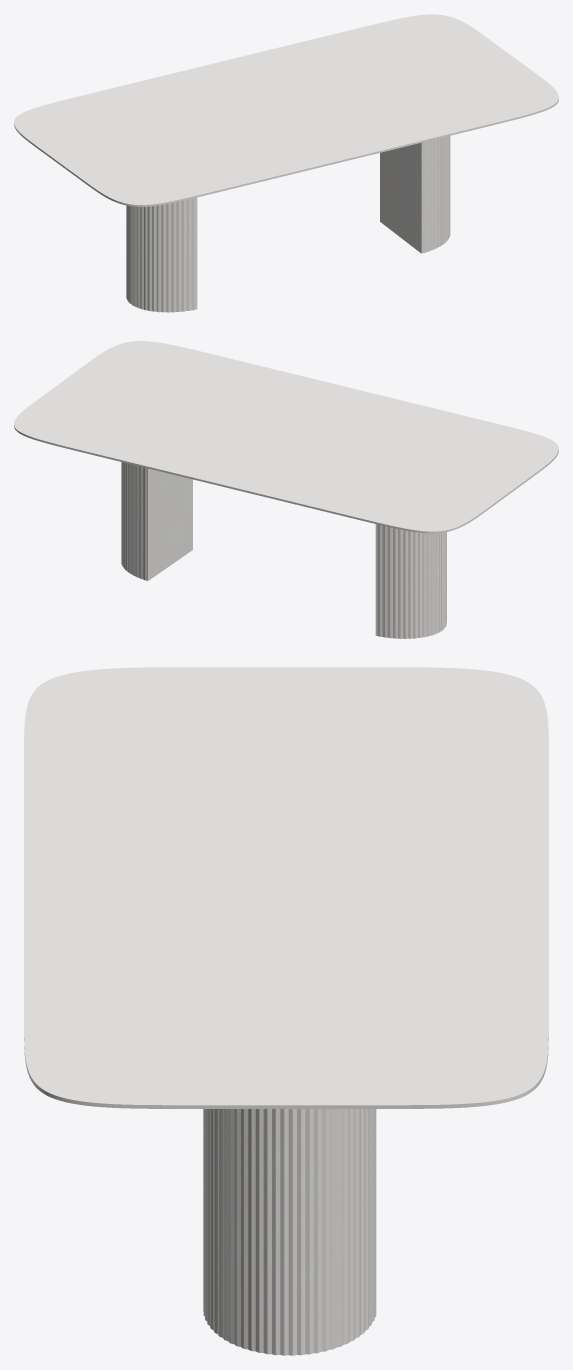
Rendered from purewhite_softrecta_facet_flute.glb.
3 views of the same model, one above another, from view 1: azimuth 30°, elevation 25°; view 2: azimuth 150°, elevation 25°; view 3: azimuth 270°, elevation 25° (orthographic). The views are drawn at different scales.
Parts seen in each view (by area): view 1: facet_softrecta, flute; view 2: facet_softrecta, flute; view 3: facet_softrecta, flute.
Part boxes in pixels (x1,y1,x2,y2): facet_softrecta: [14, 14, 558, 206]; flute: [126, 136, 450, 312]; facet_softrecta: [14, 341, 558, 533]; flute: [121, 462, 446, 638]; facet_softrecta: [24, 667, 548, 1108]; flute: [203, 1109, 376, 1355].
Bounding box in the file's own units: 7.5 × 2.5 × 3.8.
Materials: 1 (1 with a texture image).
